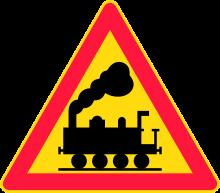Barrier Ahead: (14, 15, 207, 185)
